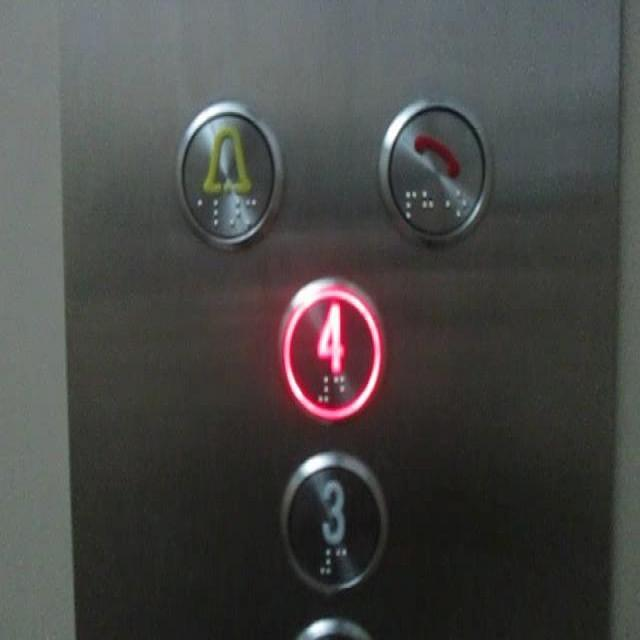3: (280, 449, 388, 594)
4: (279, 276, 381, 419)
alarm: (175, 99, 282, 249)
call: (378, 95, 493, 244)
